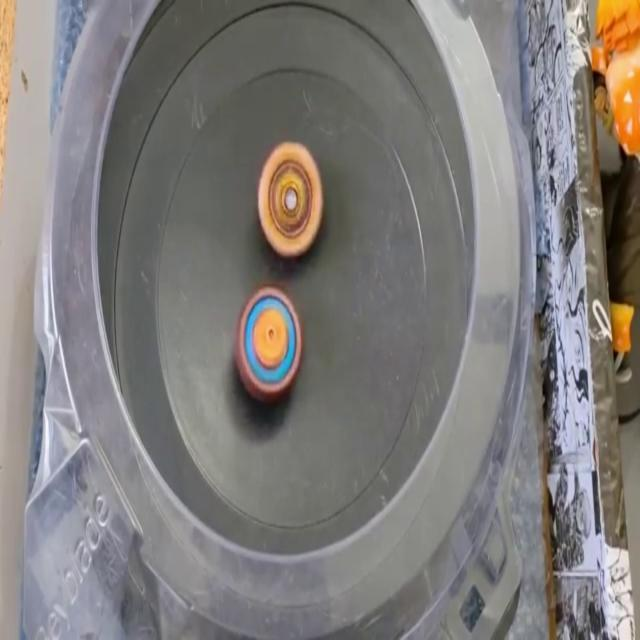Beyblade: (256, 140, 323, 260), (235, 287, 302, 400)
